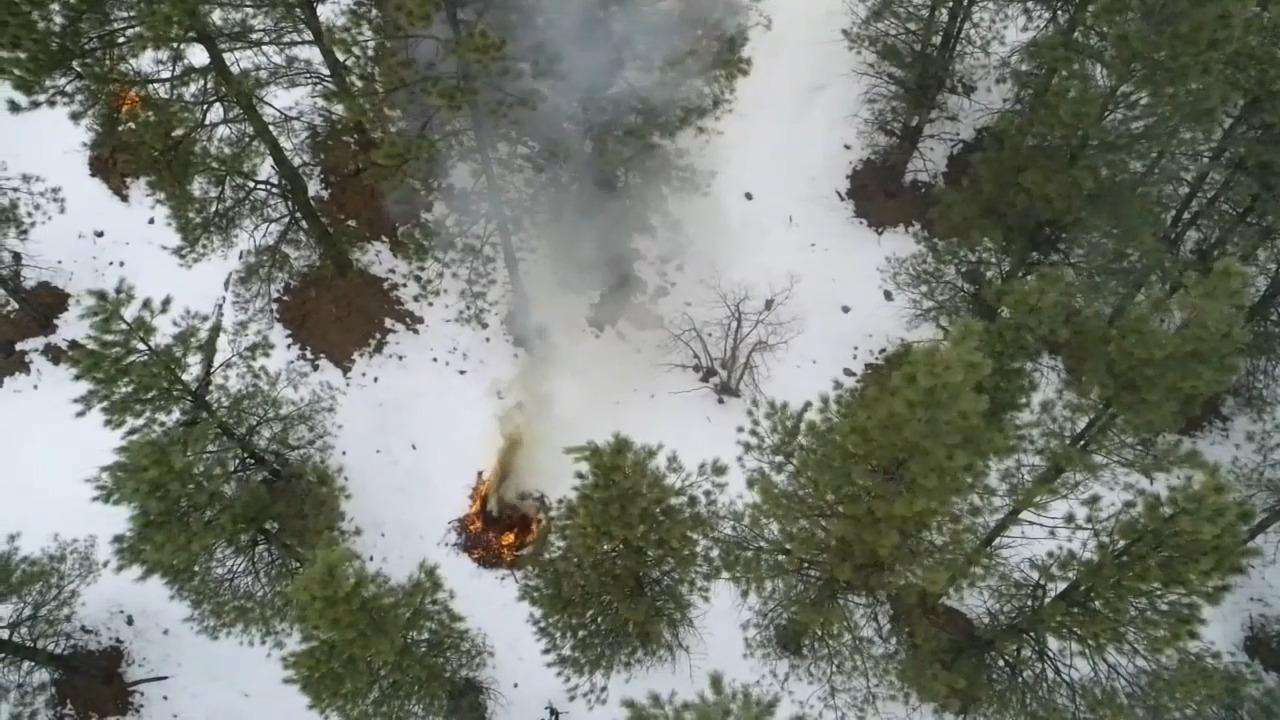fire: (455, 467, 533, 567)
smoke: (488, 0, 727, 160)
